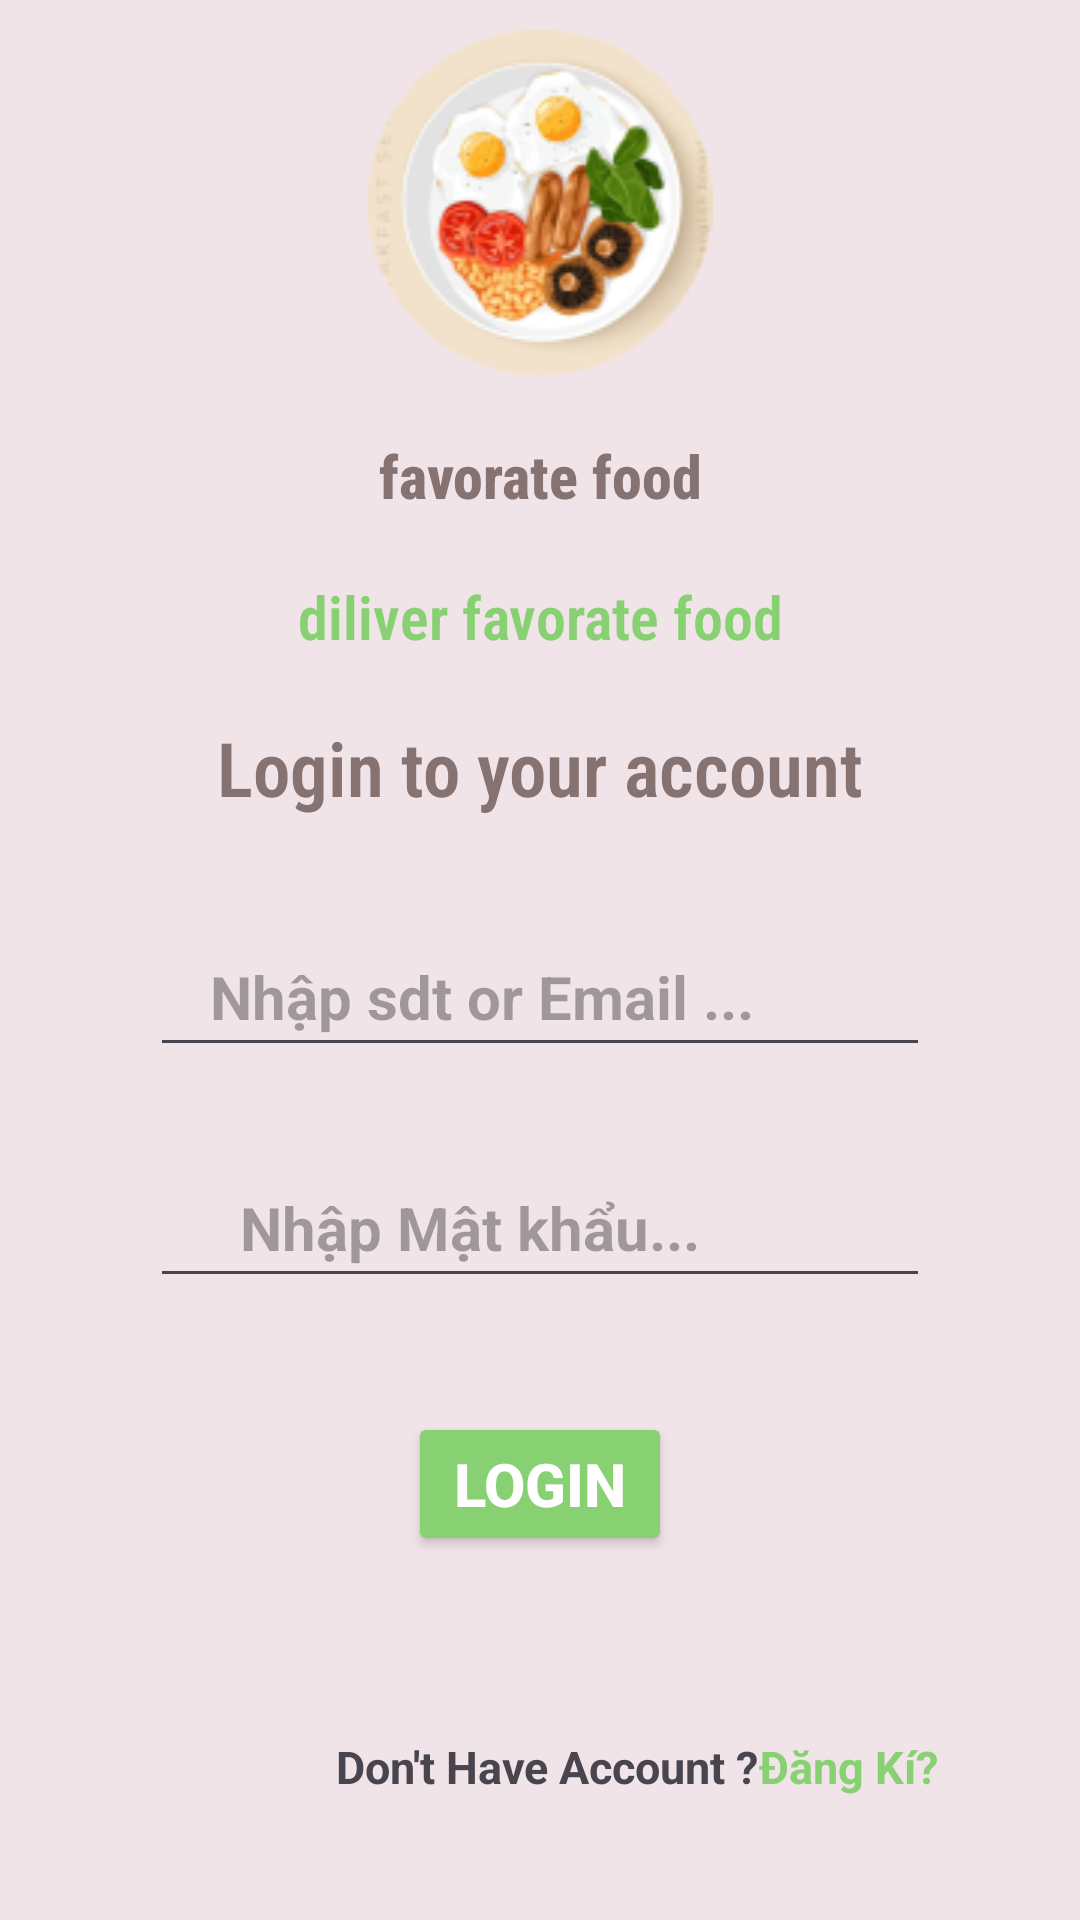

Icons on this 1080px×1920px Android screen, each with the point to tap as (x,y):
breakfast: (540,202)
